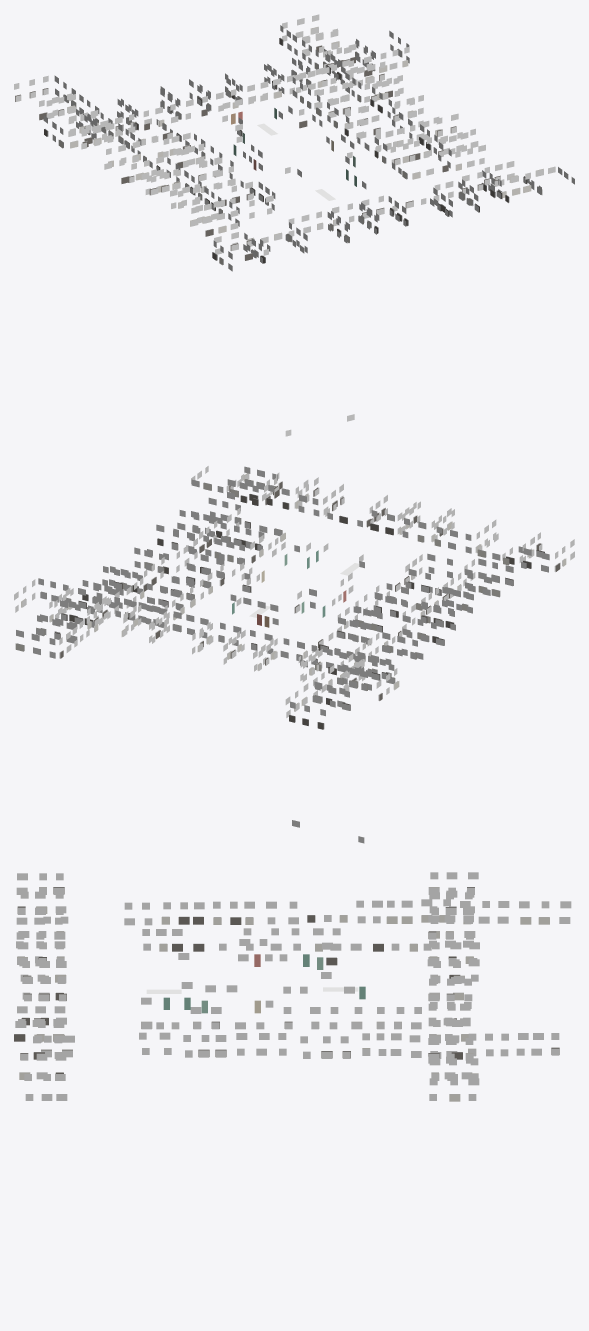
Rendered from alley_cards.glb.
The picture shows the model from 3 angles, top to bottom: view 1: azimuth 30°, elevation 25°; view 2: azimuth 150°, elevation 25°; view 3: azimuth 270°, elevation 25°; orthographic projection. The views are drawn at different scales.
Visible parts, largest first — view 1: alley_cards; view 2: alley_cards; view 3: alley_cards.
Boxes of the visible parts, x1,y1,x2,y2 form: alley_cards: (14,14,574,436); alley_cards: (14,466,574,843); alley_cards: (14,872,571,1101).
Bounding box in the file's own units: 72.78 × 55.5 × 83.29.
